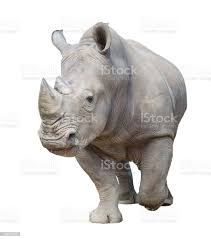Rhinoceros: (24, 12, 199, 224)
